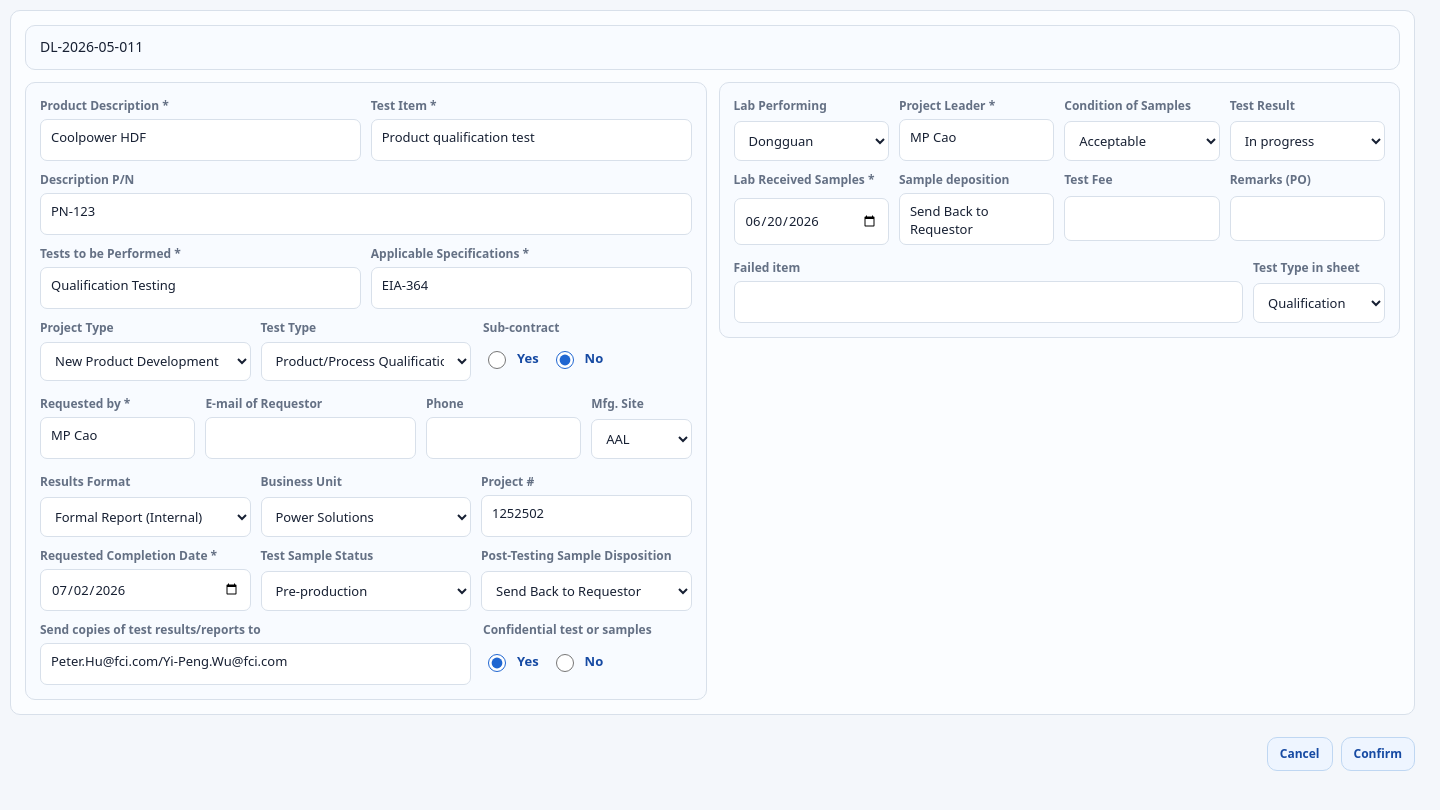
Scenario: ProjectBasicInformationWorkspace › keeps Sample deposition aligned while it still mirrors the disposition
This screenshot has width=1440, height=810.
Select "Keep in the Lab" in the dropdown labelled "Post-Testing Sample Disposition": (586, 591) [481, 571, 692, 611]
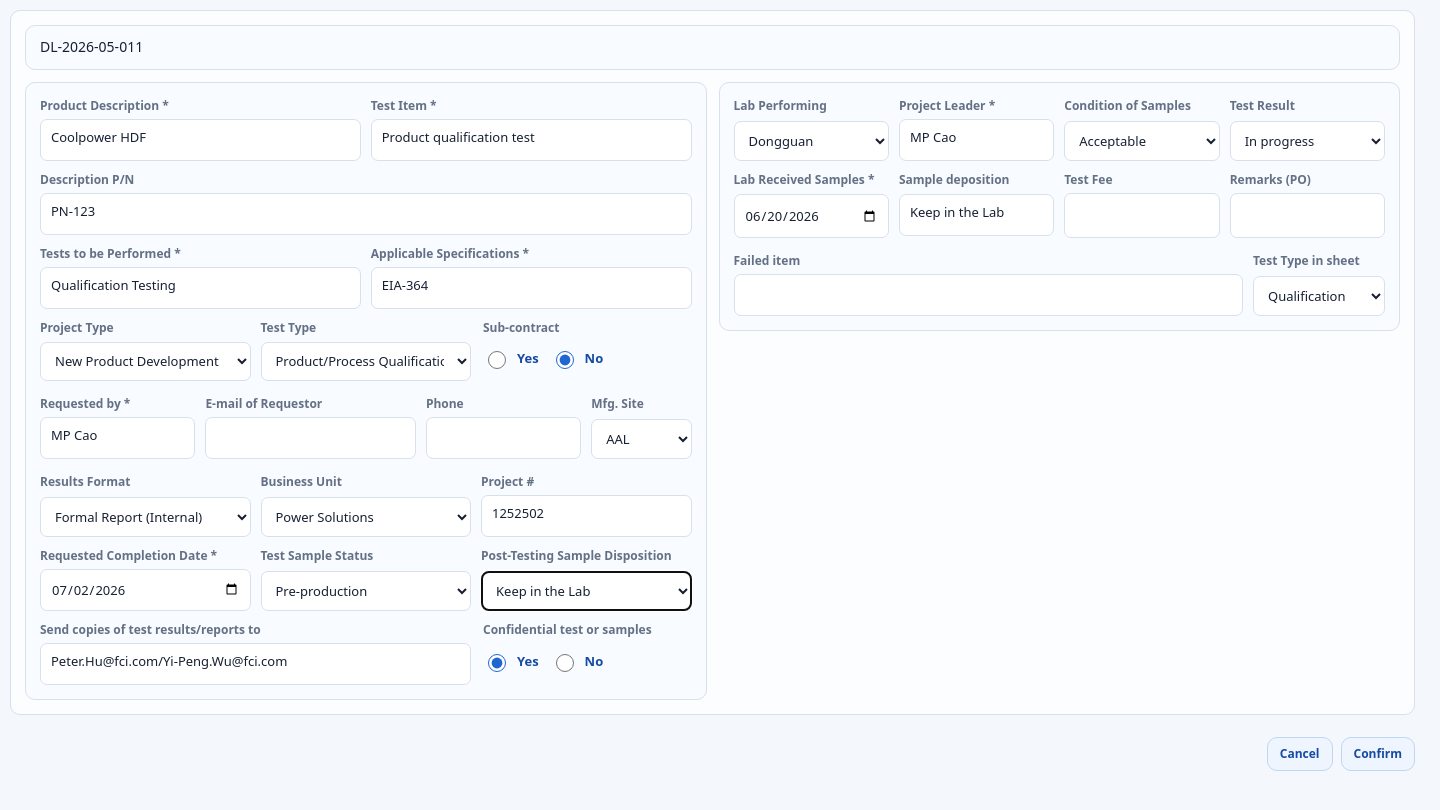
expect the text box labelled "Sample deposition" holds "Keep in the Lab": met, box [899, 194, 1054, 236]
